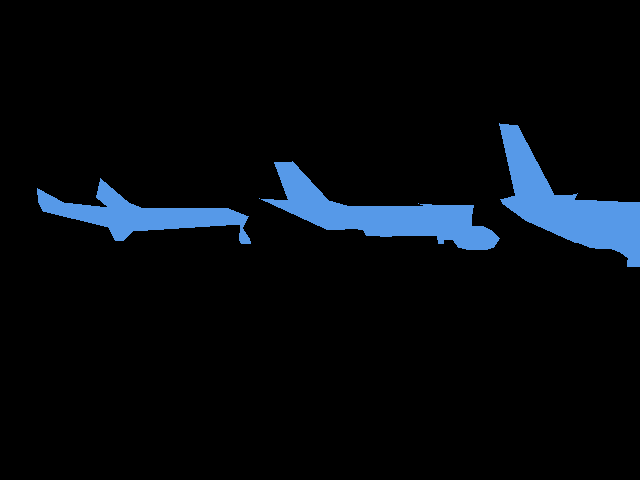Airplane: (259, 161, 499, 249), (499, 123, 640, 267), (37, 178, 250, 244)
